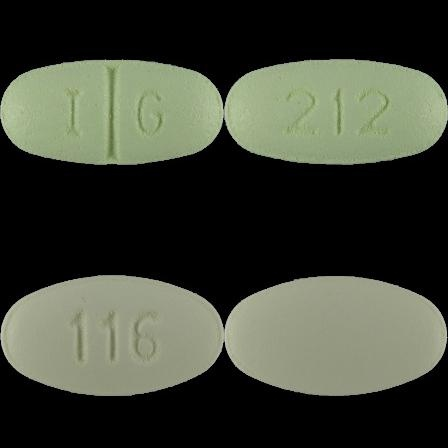50090-1186: (0, 0, 224, 224)
